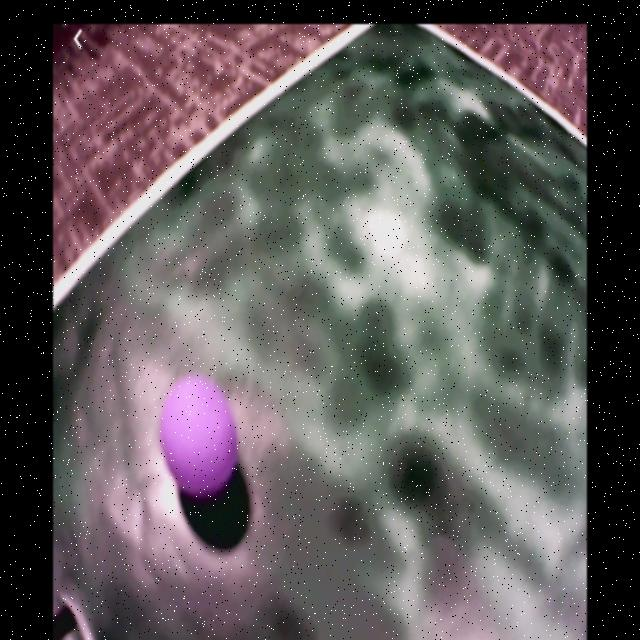ball: (160, 377, 236, 498)
